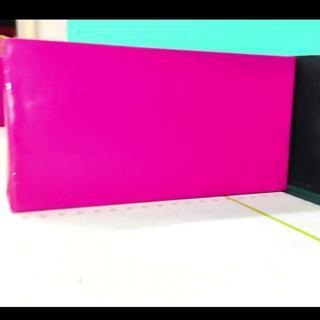xparking: (5, 41, 293, 212), (1, 49, 4, 133)
